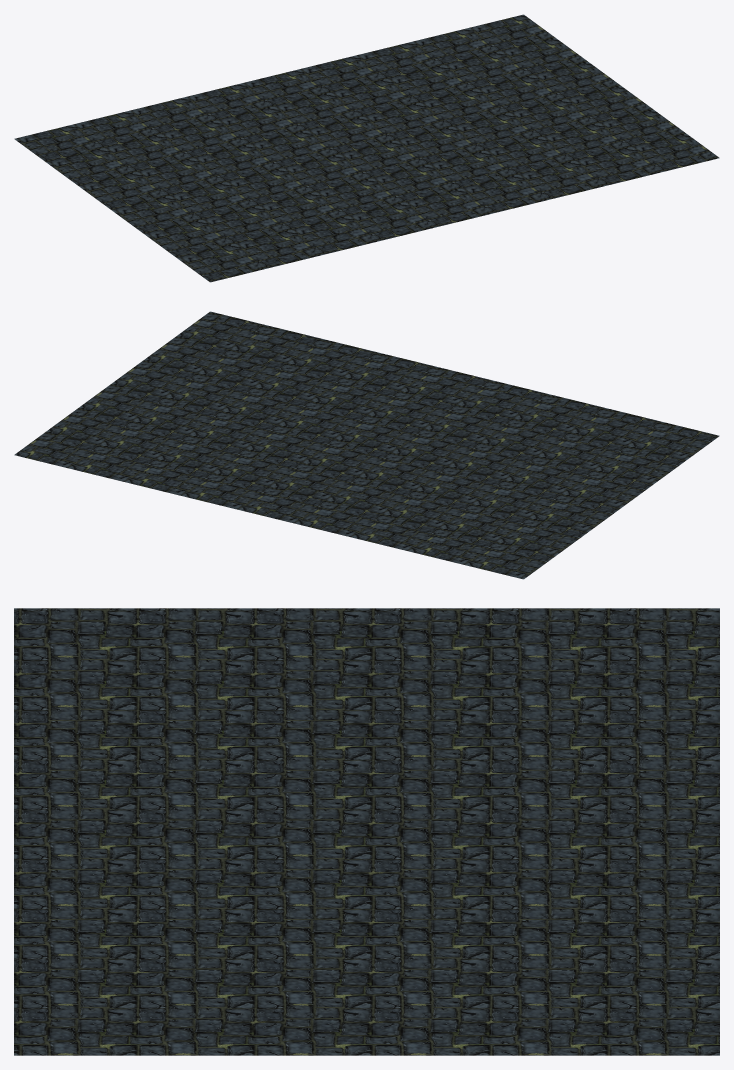
The model's file is floor_stones_tilleable.glb.
3 renders of one model, top to bottom at view 1: azimuth 30°, elevation 25°; view 2: azimuth 150°, elevation 25°; view 3: azimuth 270°, elevation 25°, orthographic. The views are drawn at different scales.
Parts seen in each view (by area): view 1: Floor Tilable.019, Floor Tilable.026, Floor Tilable.038, Floor Tilable.042, Floor Tilable.011, Floor Tilable.013, Floor Tilable.017, Floor Tilable.024, Floor Tilable.040, Floor Tilable.047, Floor Tilable.048, Floor Tilable.053 (+42 smaller); view 2: Floor Tilable.010, Floor Tilable.018, Floor Tilable.046, Floor Tilable.051, Floor Tilable.014, Floor Tilable.021, Floor Tilable.022, Floor Tilable.027, Floor Tilable.037, Floor Tilable.039, Floor Tilable.043, Floor Tilable.050 (+42 smaller); view 3: Floor Tilable.014, Floor Tilable.024, Floor Tilable.040, Floor Tilable.050, Floor Tilable.011, Floor Tilable.017, Floor Tilable.021, Floor Tilable.027, Floor Tilable.037, Floor Tilable.043, Floor Tilable.047, Floor Tilable.053 (+42 smaller).
Part boxes in pixels (x1,y1,x2,y2): Floor Tilable.019: (136, 159, 224, 196); Floor Tilable.026: (14, 125, 102, 162); Floor Tilable.038: (631, 134, 719, 171); Floor Tilable.042: (509, 100, 597, 137); Floor Tilable.011: (419, 90, 507, 127); Floor Tilable.013: (443, 52, 532, 89); Floor Tilable.017: (354, 42, 442, 79); Floor Tilable.024: (160, 121, 248, 158); Floor Tilable.040: (485, 138, 573, 175); Floor Tilable.047: (291, 217, 379, 254); Floor Tilable.048: (201, 207, 290, 244); Floor Tilable.053: (226, 169, 314, 206); Floor Tilable.010: (136, 397, 224, 434); Floor Tilable.018: (14, 431, 102, 468); Floor Tilable.046: (631, 422, 719, 459); Floor Tilable.051: (509, 456, 597, 493); Floor Tilable.014: (160, 435, 248, 472); Floor Tilable.021: (419, 466, 507, 503); Floor Tilable.022: (443, 504, 532, 541); Floor Tilable.027: (354, 514, 442, 551); Floor Tilable.037: (291, 339, 379, 376); Floor Tilable.039: (201, 349, 290, 386); Floor Tilable.043: (226, 387, 314, 424); Floor Tilable.050: (485, 418, 573, 455); Floor Tilable.014: (484, 906, 602, 956); Floor Tilable.024: (484, 707, 602, 757); Floor Tilable.040: (131, 906, 249, 956); Floor Tilable.050: (131, 707, 249, 757); Floor Tilable.011: (367, 906, 484, 956); Floor Tilable.017: (602, 906, 719, 956); Floor Tilable.021: (367, 707, 484, 757); Floor Tilable.027: (602, 707, 719, 757); Floor Tilable.037: (14, 906, 131, 956); Floor Tilable.043: (249, 906, 366, 956); Floor Tilable.047: (14, 707, 131, 757); Floor Tilable.053: (249, 707, 366, 757).
Size of the model in its own units: 1800 by 0.000196 by 1200.
Materials: 1 (1 with a texture image).
